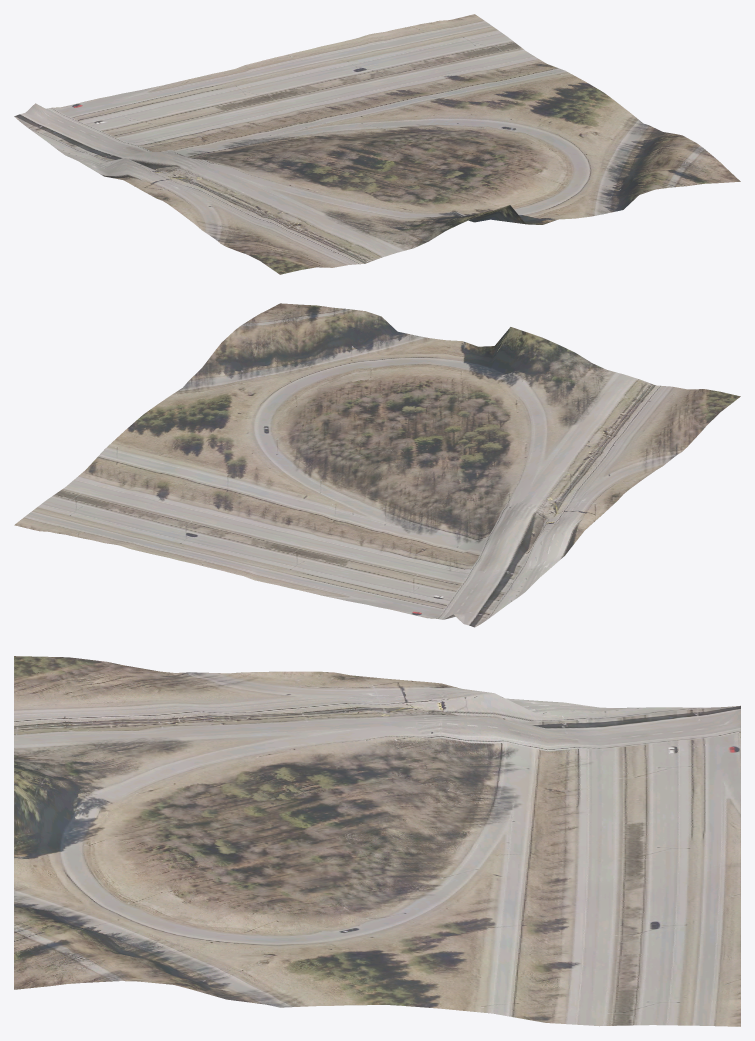
Rendered from CM_Terrain_24491482_6817746.fbx.
3 renders of one model, top to bottom at view 1: azimuth 30°, elevation 25°; view 2: azimuth 150°, elevation 25°; view 3: azimuth 270°, elevation 25°, orthographic. The views are drawn at different scales.
Visible parts, largest first — view 1: CM_Terrain_24491482_6817746_LOD0; view 2: CM_Terrain_24491482_6817746_LOD0; view 3: CM_Terrain_24491482_6817746_LOD0.
Part boxes in pixels (box(x1,y1,x2,y2)): CM_Terrain_24491482_6817746_LOD0: box(14, 14, 740, 274); CM_Terrain_24491482_6817746_LOD0: box(14, 303, 740, 627); CM_Terrain_24491482_6817746_LOD0: box(14, 656, 740, 1026).
Size of what is drawn, in the model's own units: 205 by 25.47 by 205.
